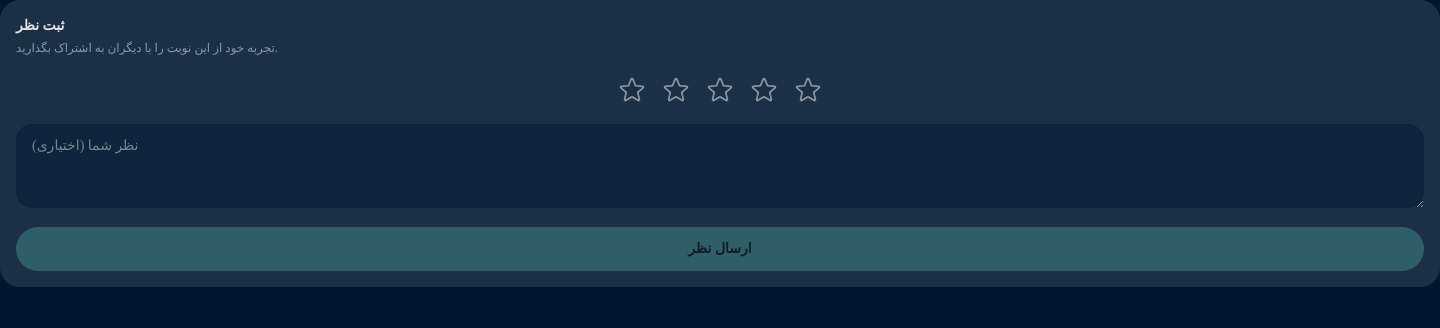
AppointmentReviewSection › shows the API error when submitting fails
This screenshot has width=1440, height=328.
Click the button named "4 ستاره" at (764, 90), box [746,72,782,108]
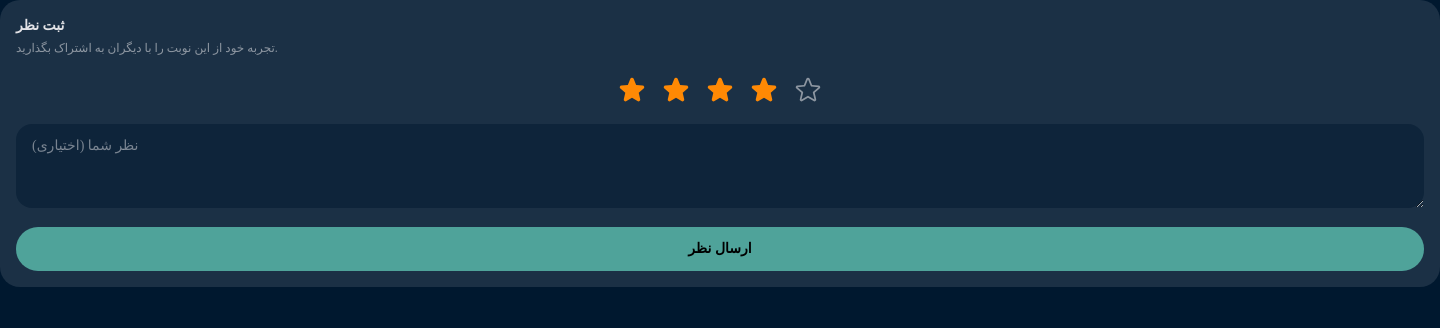
Click the button "ارسال نظر" at (720, 249), box [16,227,1424,271]
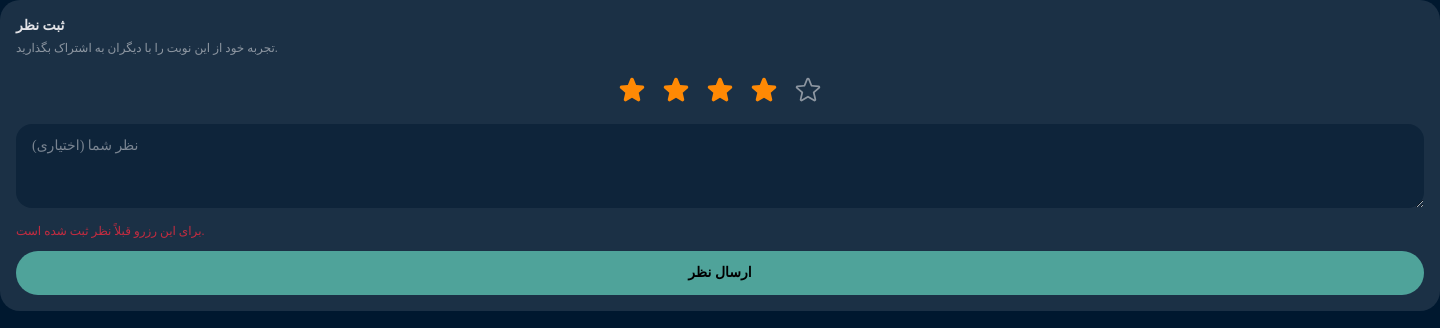
Expected: the text "برای این رزرو قبلاً نظر ثبت شده است." is shown, [16,224,205,238]
